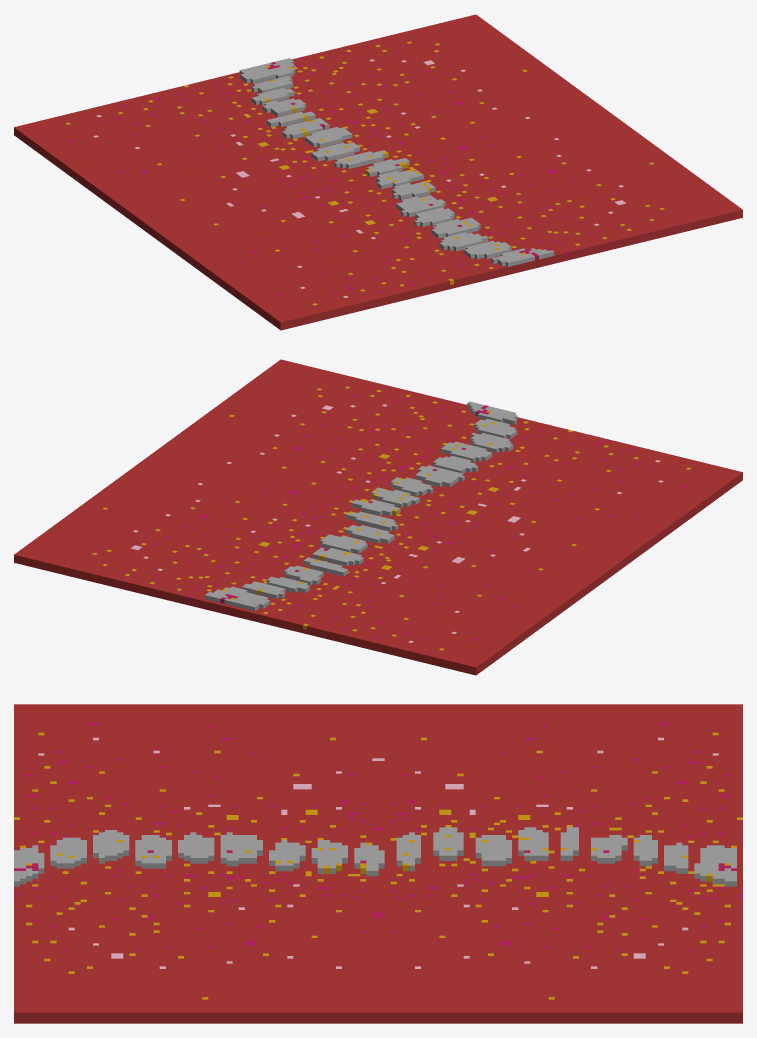
File: mapkari-0.obj
The picture shows the model from 3 angles, top to bottom: view 1: azimuth 30°, elevation 25°; view 2: azimuth 150°, elevation 25°; view 3: azimuth 270°, elevation 25°; orthographic projection. The views are drawn at different scales.
Parts seen in each view (by area): view 1: mapkari-0; view 2: mapkari-0; view 3: mapkari-0.
Boxes of the visible parts, <box> form: mapkari-0: <box>14,14,742,330</box>; mapkari-0: <box>14,359,742,675</box>; mapkari-0: <box>14,704,742,1023</box>.
Size of the model in its own units: 120 by 3 by 120.
1 material, 1 textured.
